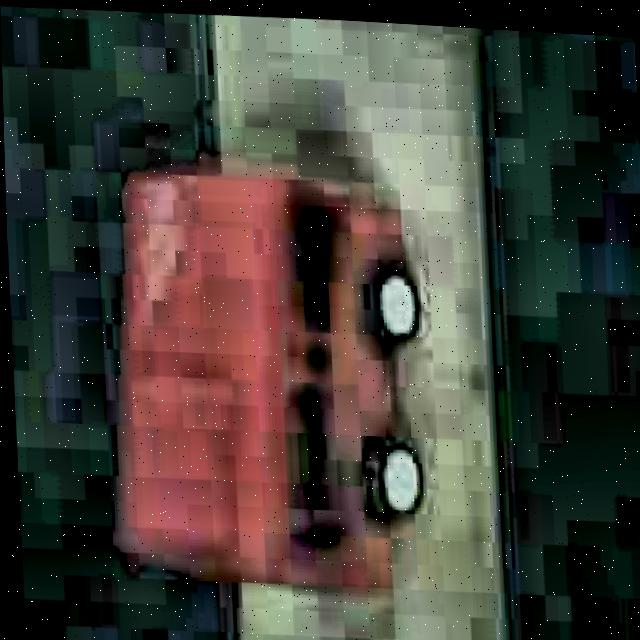bus: (93, 155, 435, 601)
